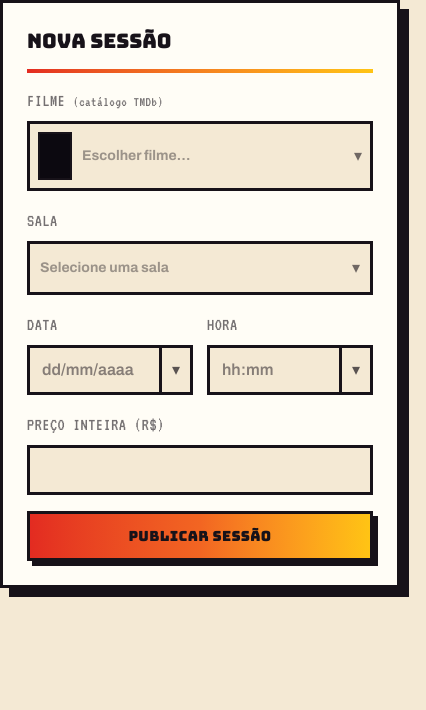
Test: FormSessao › says so when the room has no blocked window at all
Step 1. Click the button "Selecione uma sala ▾" → (104, 268), box [27,241,373,295]
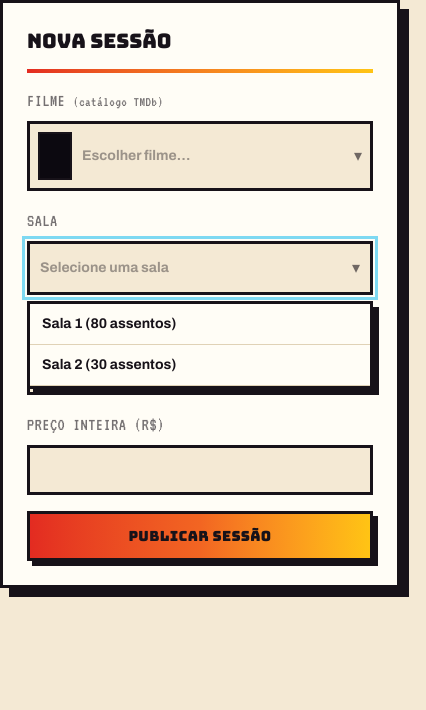
Step 2. Click the option "Sala 2 (30 assentos)" → (109, 364), box [30,345,370,386]
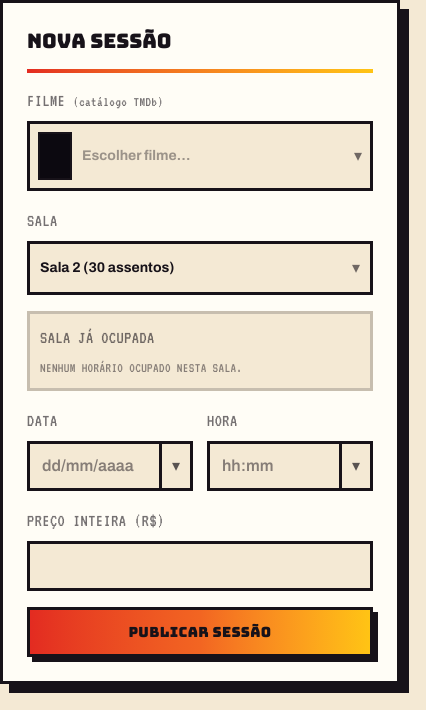
expect the text "NENHUM HORÁRIO OCUPADO NESTA SALA." is shown: met, box [40,361,242,375]
